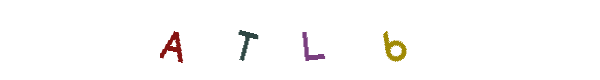6: (354, 0, 434, 80)
A: (133, 0, 213, 80)
L: (260, 0, 340, 80)
T: (231, 0, 311, 80)
